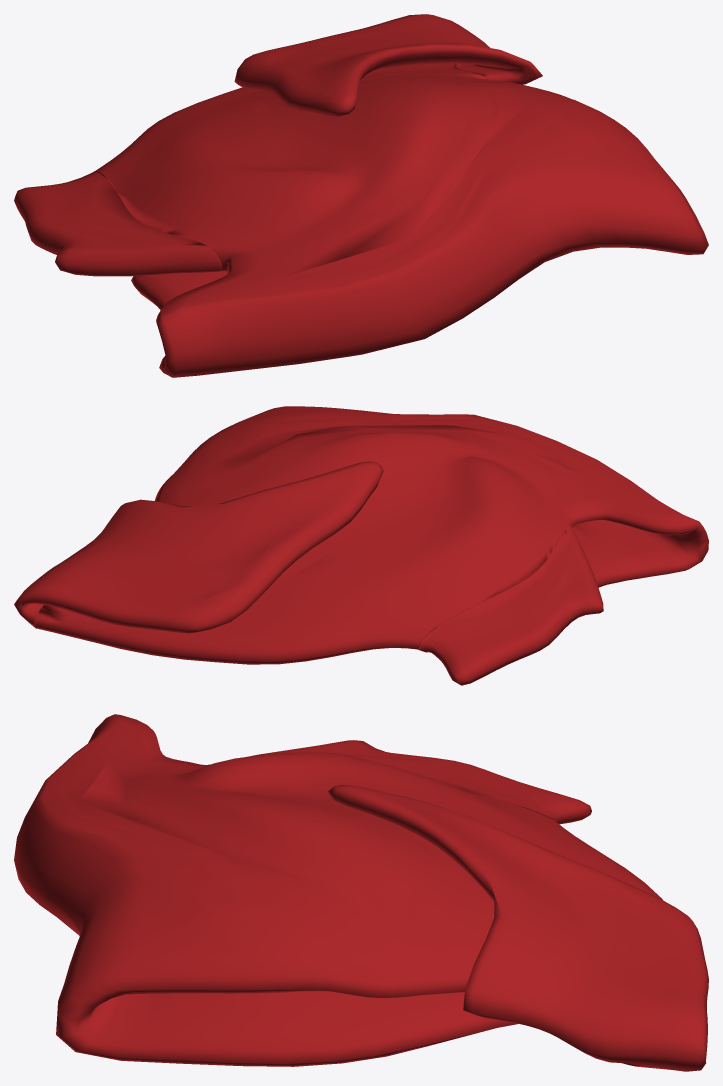
File: MDL_CLRE_wet.fbx
The picture shows the model from 3 angles, top to bottom: view 1: azimuth 30°, elevation 25°; view 2: azimuth 150°, elevation 25°; view 3: azimuth 270°, elevation 25°; orthographic projection. The views are drawn at different scales.
Visible parts, largest first — view 1: MDL_CL_washed; view 2: MDL_CL_washed; view 3: MDL_CL_washed.
Boxes of the visible parts, x1,y1,x2,y2 form: MDL_CL_washed: [14, 14, 708, 377]; MDL_CL_washed: [14, 406, 708, 685]; MDL_CL_washed: [14, 714, 708, 1071].
Bounding box in the file's own units: 88.1 × 21.21 × 85.2.
